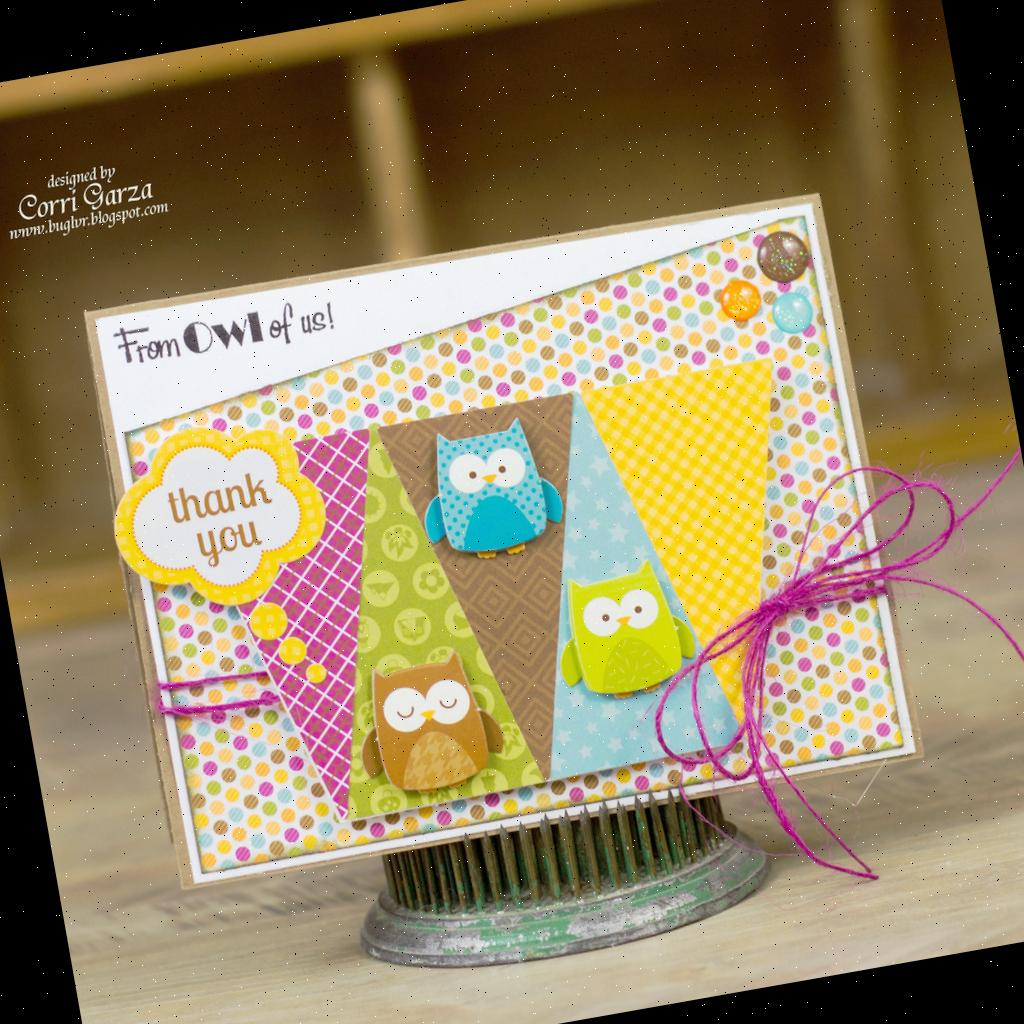Owl: (347, 648, 515, 806), (410, 412, 572, 568), (546, 554, 700, 708)
